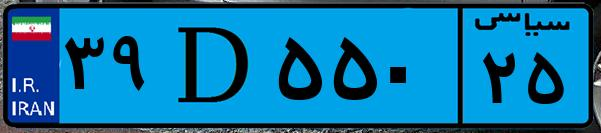0: (385, 28, 445, 110)
2: (475, 38, 525, 113)
3: (57, 26, 110, 100)
5: (270, 28, 330, 110), (330, 28, 385, 110), (525, 38, 570, 115)
9: (110, 28, 158, 98)
D: (158, 12, 270, 120)
